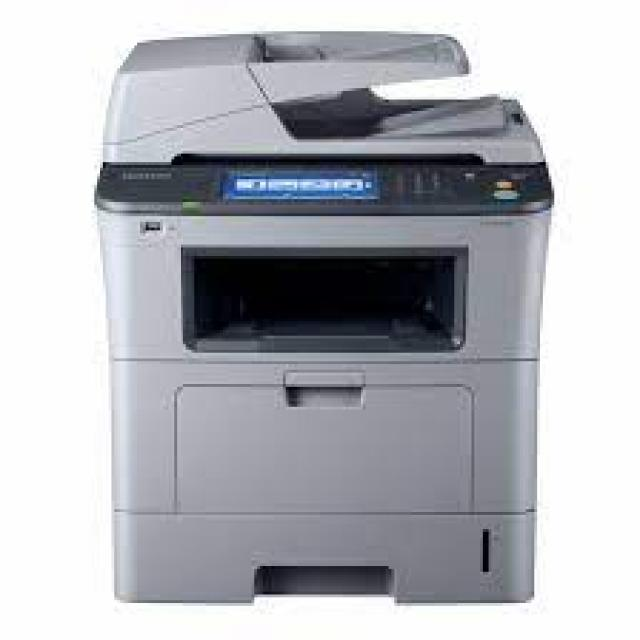printer: (88, 28, 559, 612)
